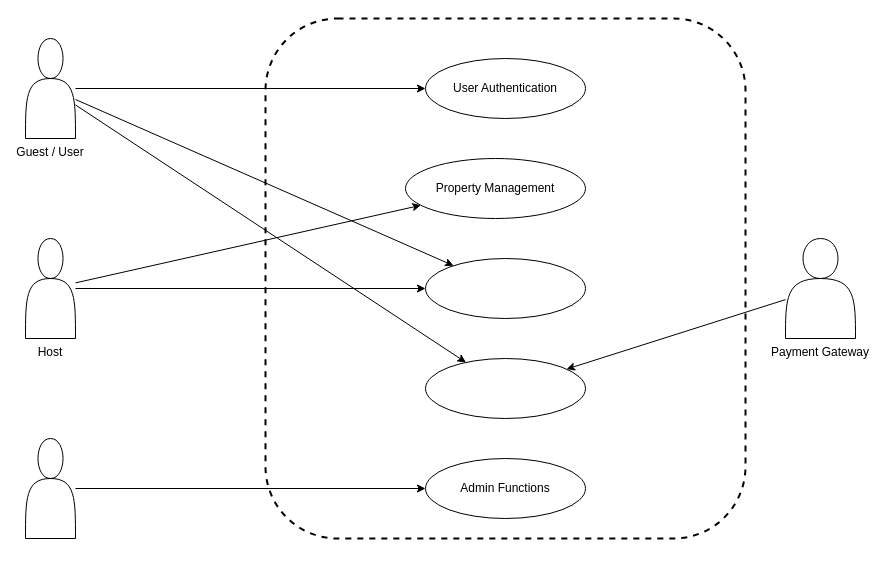
This 887x576 diagram has some shape labels left out. The centre of each missing label's shape, as x and y in pixels:
Admin: point (50, 488)
Booking System: point (505, 288)
Payments: point (505, 388)
